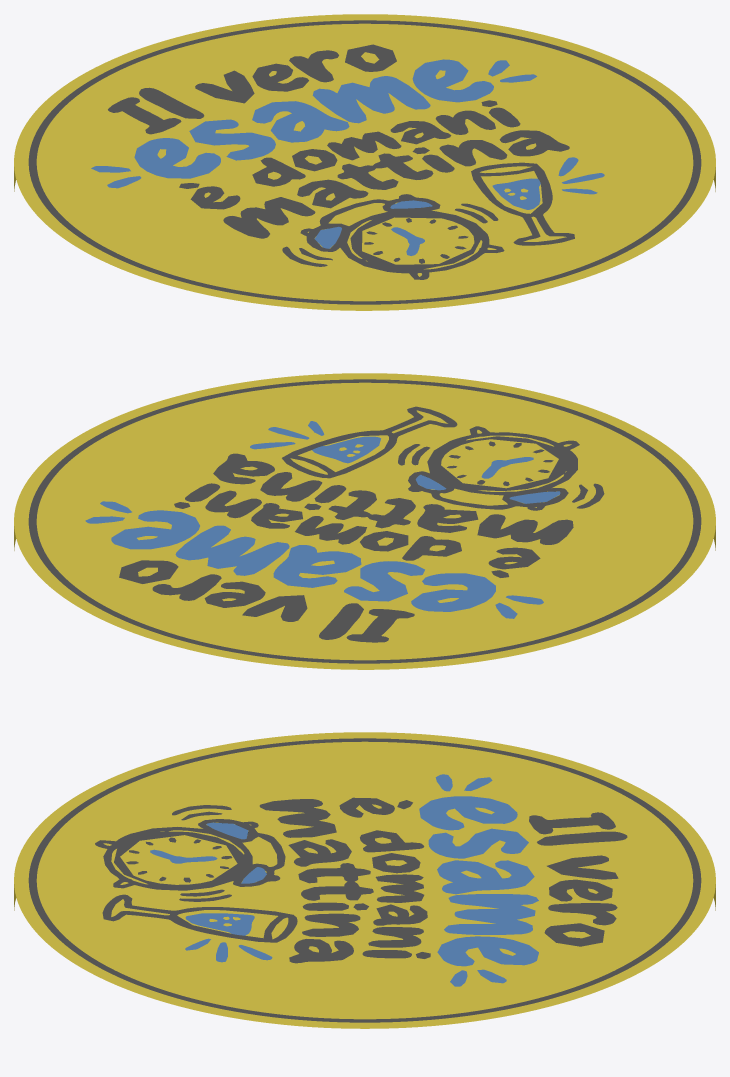
File: sottobicchiere-vero-esame-domani.glb
The picture shows the model from 3 angles, top to bottom: view 1: azimuth 30°, elevation 25°; view 2: azimuth 150°, elevation 25°; view 3: azimuth 270°, elevation 25°; orthographic projection.
Visible parts, largest first — view 1: coaster_base, coaster_ink, coaster_accent; view 2: coaster_base, coaster_ink, coaster_accent; view 3: coaster_base, coaster_ink, coaster_accent.
Part boxes in pixels (x1,y1,x2,y2): coaster_base: [14, 14, 715, 310]; coaster_ink: [28, 20, 701, 304]; coaster_accent: [91, 59, 604, 255]; coaster_base: [14, 373, 715, 669]; coaster_ink: [28, 379, 701, 663]; coaster_accent: [85, 421, 560, 618]; coaster_base: [14, 732, 715, 1028]; coaster_ink: [28, 738, 701, 1022]; coaster_accent: [150, 774, 538, 986].
Bounding box in the file's own units: 0.075 × 0.004 × 0.075.
